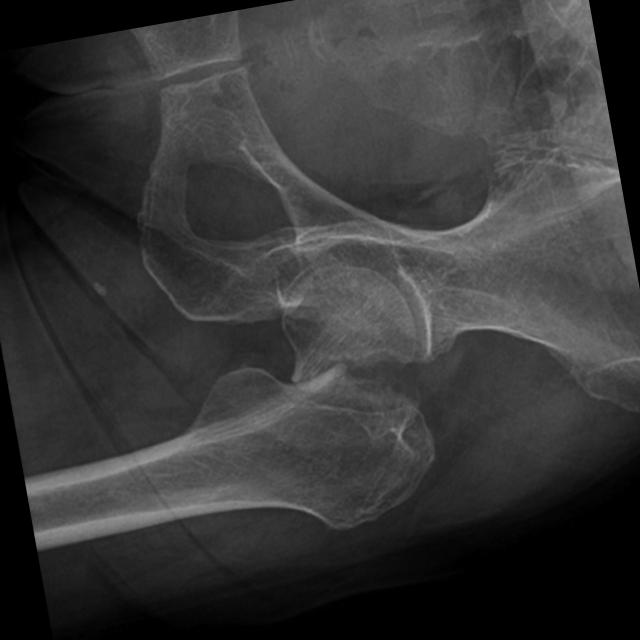left-neck: (115, 361, 435, 530), (280, 262, 415, 383)
